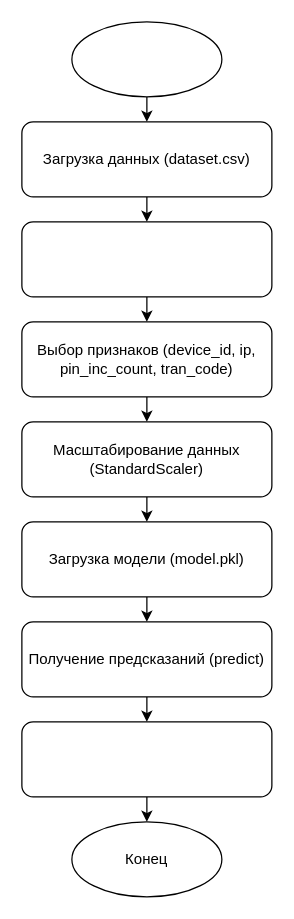
This 294x919 diagram has some shape labels left out. The centre of each missing label's shape, as x and y in pixels:
Кодирование IP и device_id: point (146, 259)
Начало: point (146, 59)
Сохранение результатов (predict.csv): point (146, 759)
